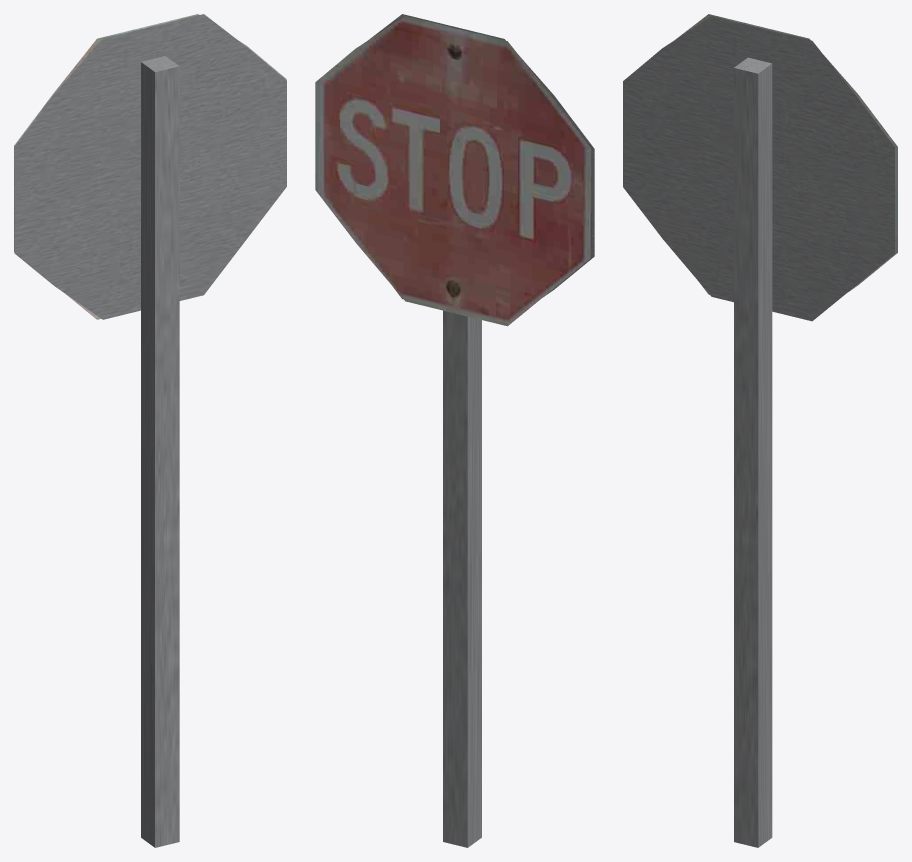
Rendered from StopSign.fbx.
The picture shows the model from 3 angles, left to right: view 1: azimuth 30°, elevation 25°; view 2: azimuth 150°, elevation 25°; view 3: azimuth 330°, elevation 25°; orthographic projection.
Visible parts, largest first — view 1: pasted__pPlane1, pCube9, pPlane1; view 2: pPlane1, pCube9, pasted__pPlane1; view 3: pasted__pPlane1, pCube9, pPlane1.
Part boxes in pixels (<box>): pasted__pPlane1: <box>14,14,286,319</box>; pCube9: <box>141,56,179,847</box>; pPlane1: <box>14,14,286,319</box>; pPlane1: <box>315,16,591,326</box>; pCube9: <box>443,310,481,847</box>; pasted__pPlane1: <box>369,14,594,299</box>; pasted__pPlane1: <box>623,16,894,321</box>; pCube9: <box>734,57,772,847</box>; pPlane1: <box>676,14,897,294</box>.
Size of the model in its own units: 4.2 by 11.84 by 0.4354.
